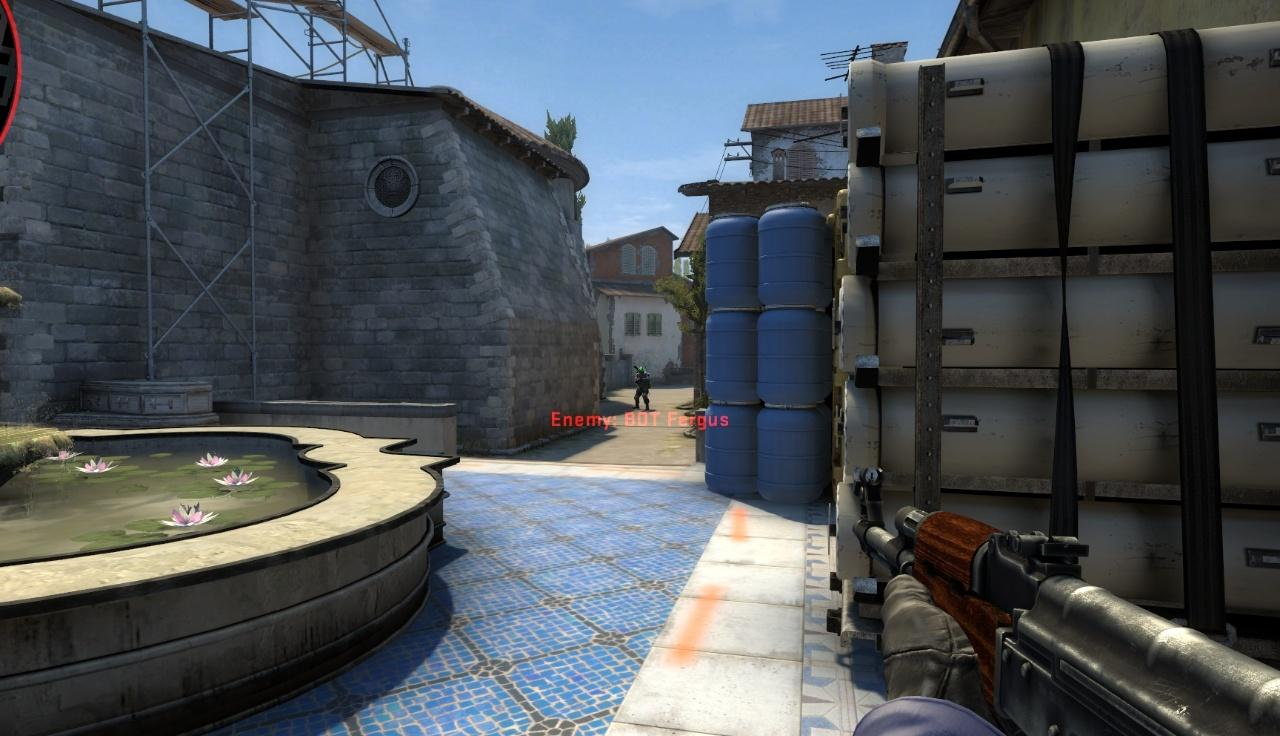ct: (635, 367, 650, 411)
cthead: (640, 367, 646, 375)
rifle: (855, 463, 1280, 736)
